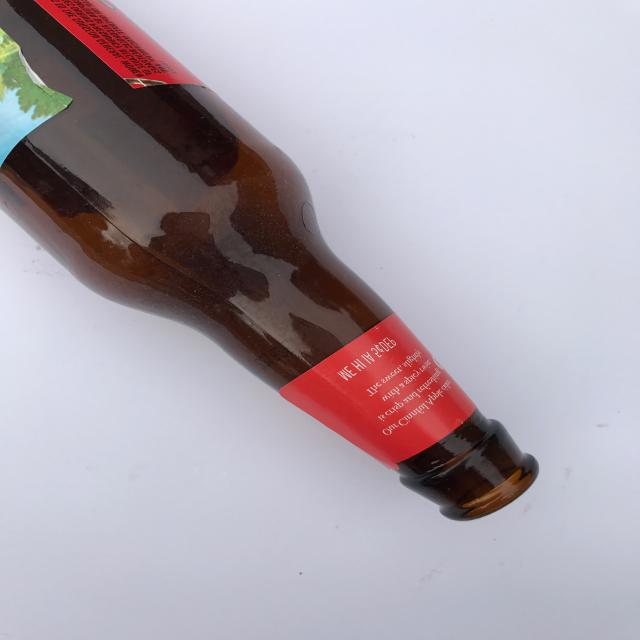glass: (0, 1, 542, 547)
